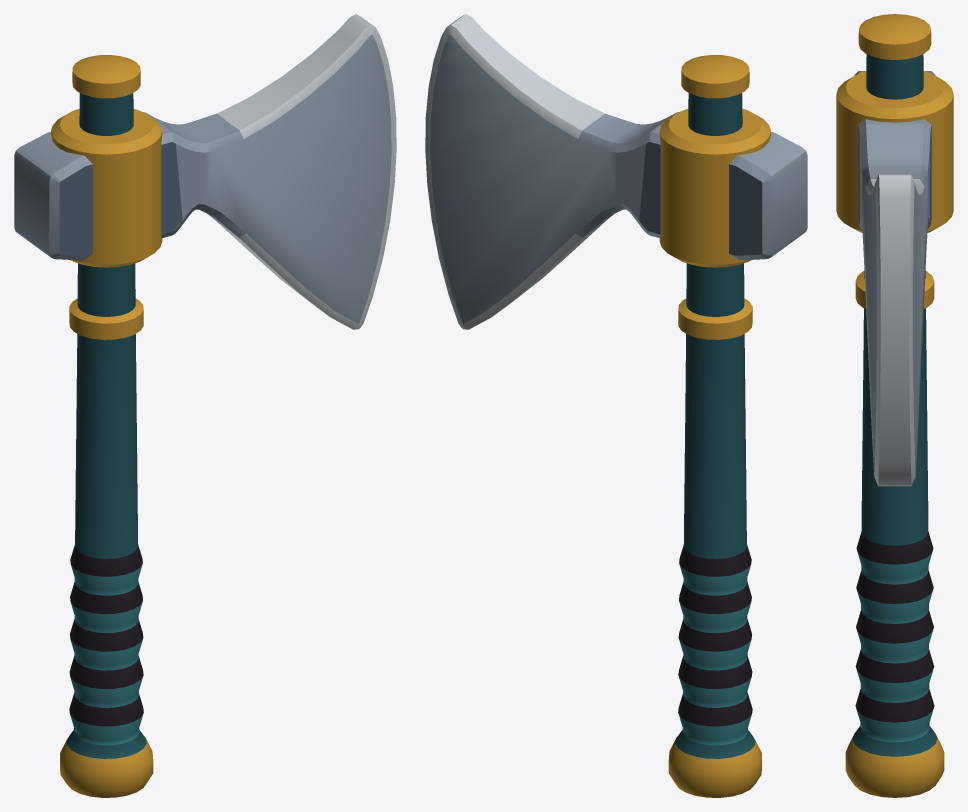
File: Axe_03.glb
3 views of the same model, side by side, from view 1: azimuth 30°, elevation 25°; view 2: azimuth 150°, elevation 25°; view 3: azimuth 270°, elevation 25° (orthographic). The views are drawn at different scales.
Parts seen in each view (by area): view 1: Axe_03; view 2: Axe_03; view 3: Axe_03.
Part boxes in pixels (box(x1,y1,x2,y2)): Axe_03: box(14, 14, 396, 797); Axe_03: box(425, 14, 807, 797); Axe_03: box(836, 14, 953, 797).
Bounding box in the file's own units: 2.31 × 4.41 × 0.622.
